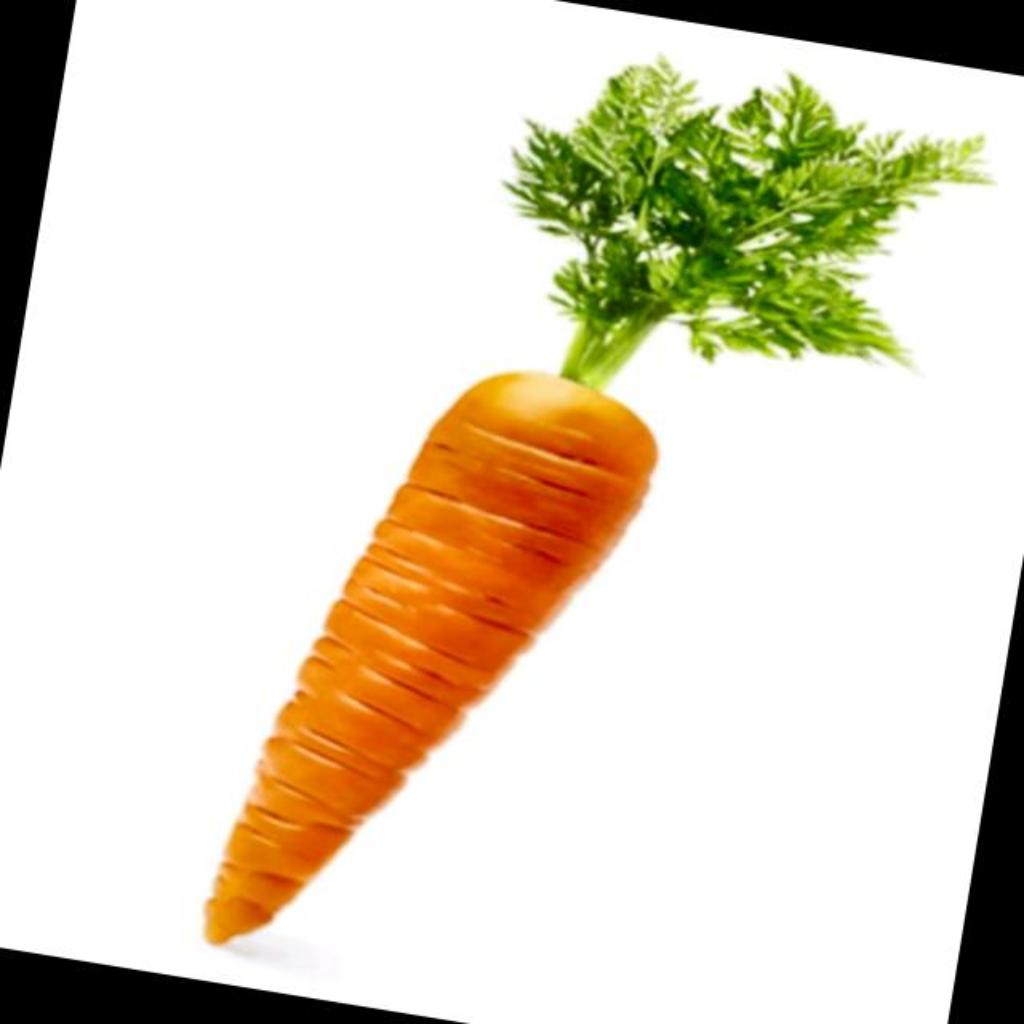carrot: (204, 60, 986, 943)
